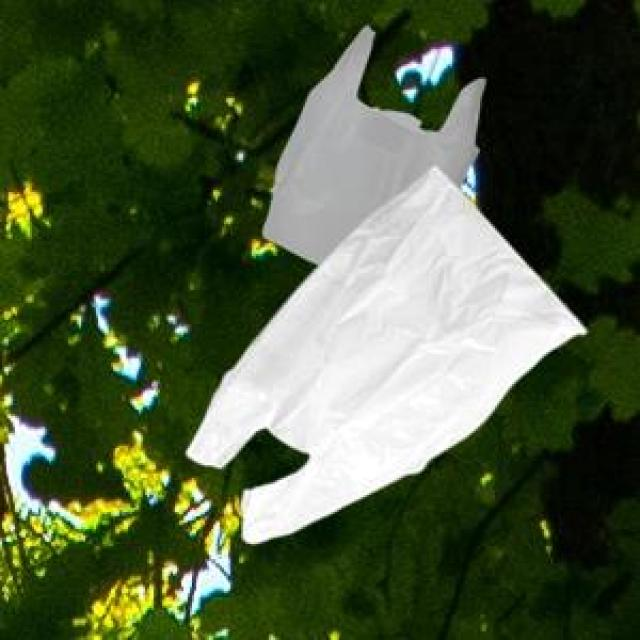plastic: (165, 18, 610, 559)
